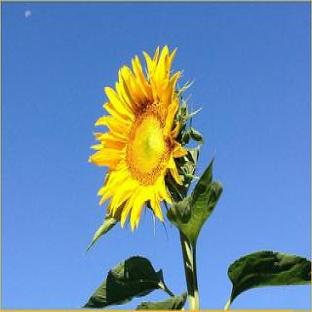sunflower: (84, 46, 223, 299)
